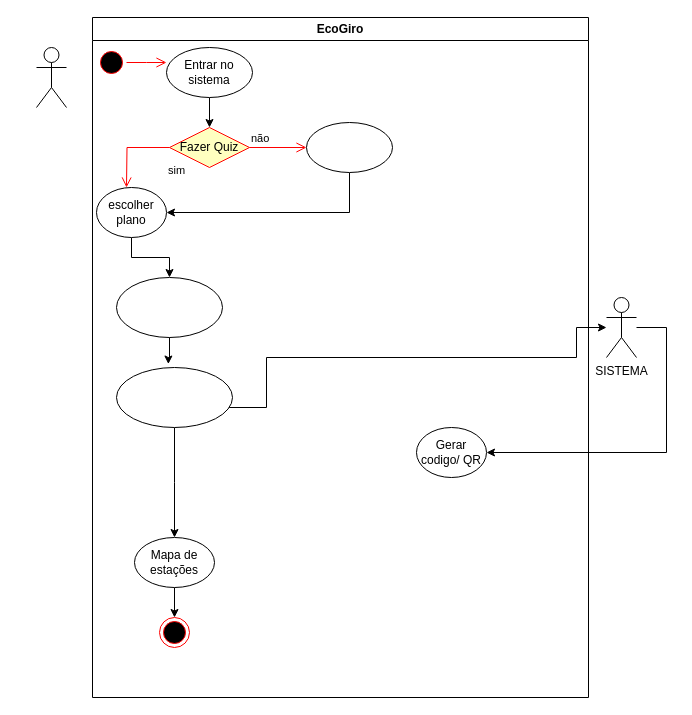
The diagram is 692 pixels wide and 715 high, and some of its shapes have lost their labels. The centre of each missing label's shape, as x and y in pixels:
"Confirmar pedido/checkout" belongs at (174,397).
"Escolher veiculo" belongs at (349,147).
"fazer login/criar conta" belongs at (169,307).
"novo usuario" belongs at (51,77).
